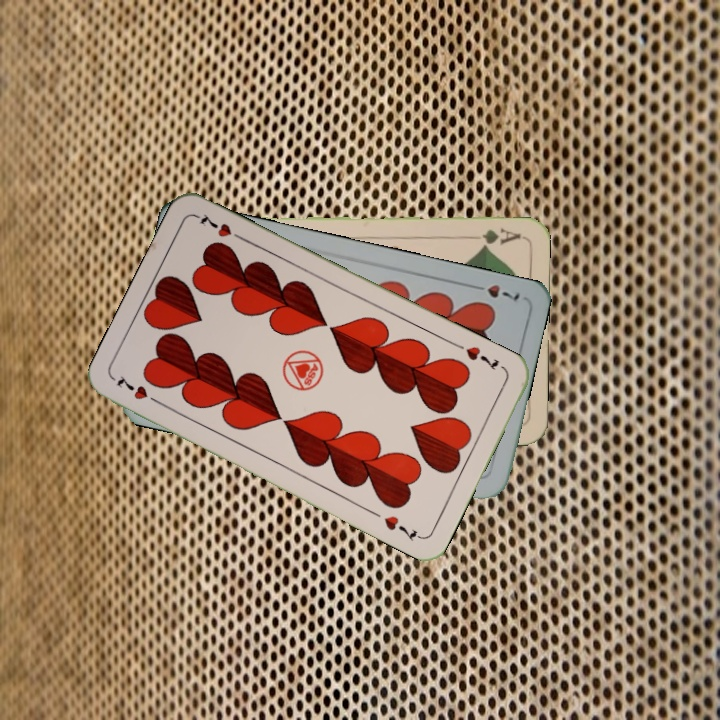GA: (465, 224, 523, 250)
H7: (113, 371, 165, 408), (466, 280, 523, 304), (461, 342, 502, 374)
